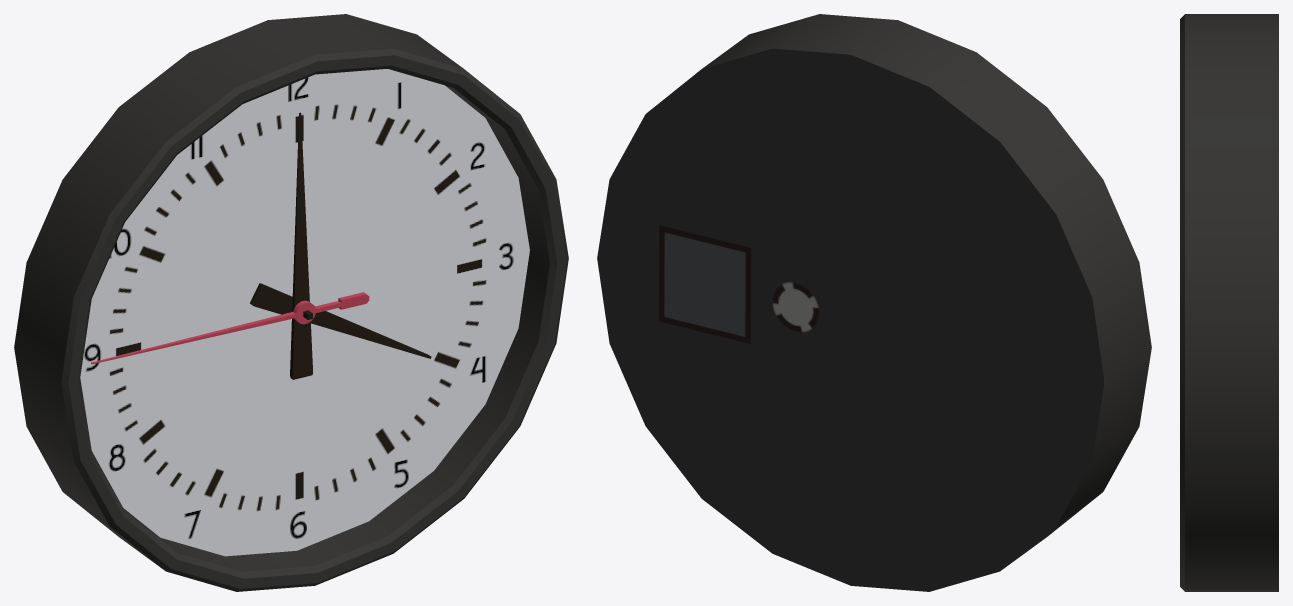
File: Clock.glb
3 renders of one model, left to right at view 1: azimuth 30°, elevation 25°; view 2: azimuth 150°, elevation 25°; view 3: azimuth 270°, elevation 25°, orthographic.
Parts seen in each view (by area): view 1: Analog_Clock_1, Hour_hand, Minute_hand, Second_hand; view 2: Analog_Clock_1; view 3: Analog_Clock_1.
Boxes of the visible parts, x1,y1,x2,y2 form: Analog_Clock_1: (14,14,568,591); Hour_hand: (290,112,312,379); Minute_hand: (250,283,431,358); Second_hand: (91,292,369,364); Analog_Clock_1: (597,14,1151,591); Analog_Clock_1: (1180,14,1278,591).
Bounding box in the file's own units: 1000 × 1000 × 170.
1 material, 1 textured.
